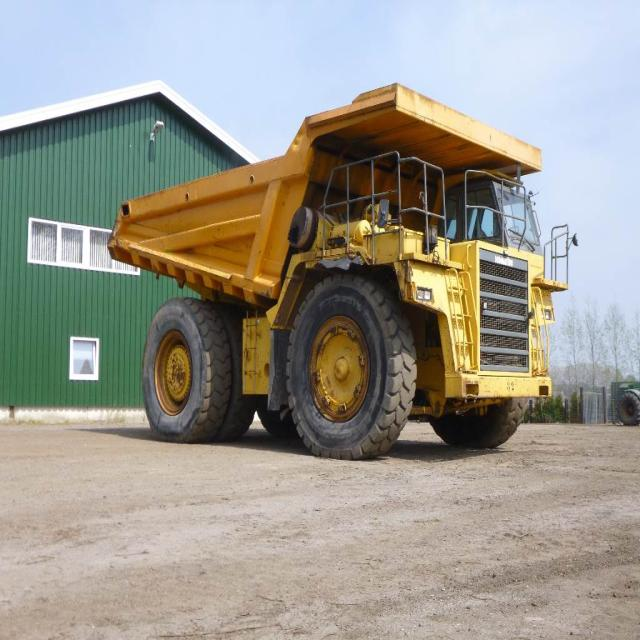dump_truck: (101, 79, 559, 463)
